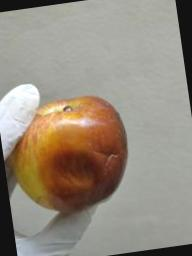Apple Rotten: (0, 76, 140, 225)
